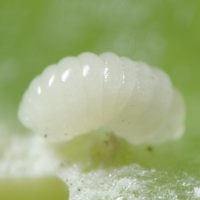insect: (18, 52, 184, 142)
